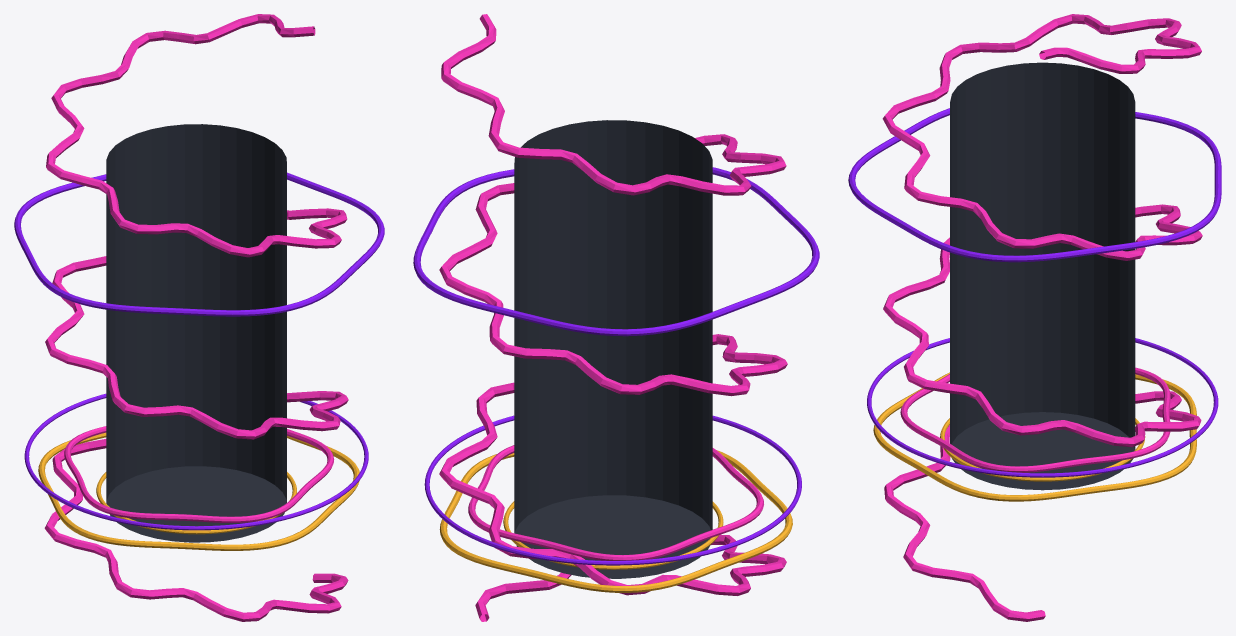
Rendered from VFX_Transformation_Celestial.obj.
The picture shows the model from 3 angles, left to right: view 1: azimuth 30°, elevation 25°; view 2: azimuth 150°, elevation 25°; view 3: azimuth 270°, elevation 25°; orthographic projection. The views are drawn at different scales.
Visible parts, largest first — view 1: CenterCylinder, SpiralEnergy, MagicRing, SigilRing; view 2: CenterCylinder, SpiralEnergy, MagicRing, SigilRing; view 3: CenterCylinder, SpiralEnergy, MagicRing, SigilRing.
Part boxes in pixels (x1,y1,x2,y2): CenterCylinder: (106, 124, 286, 542); SpiralEnergy: (44, 14, 348, 621); MagicRing: (14, 172, 384, 550); SigilRing: (24, 393, 368, 534); CenterCylinder: (514, 120, 712, 578); SpiralEnergy: (439, 14, 787, 621); MagicRing: (413, 167, 819, 592); SigilRing: (424, 415, 801, 569); CenterCylinder: (950, 62, 1135, 490); SpiralEnergy: (882, 14, 1202, 621); MagicRing: (848, 108, 1221, 501); SigilRing: (867, 338, 1218, 481).
Size of the model in its own units: 1.97 by 3.24 by 1.94.
